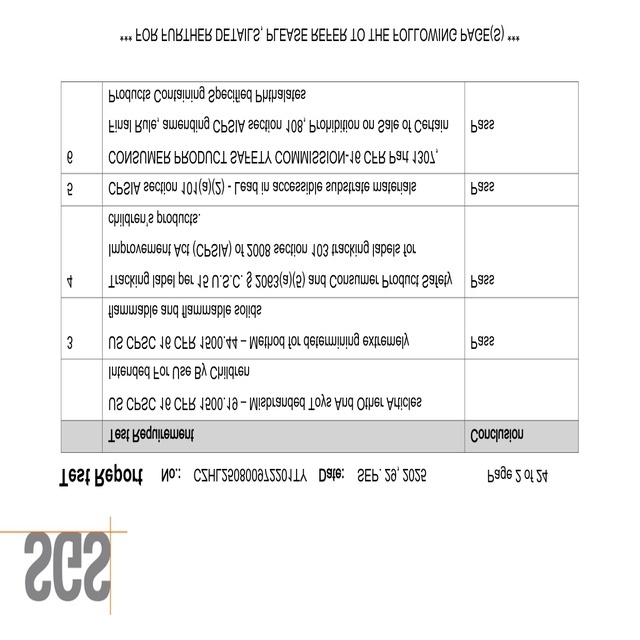sgs: (22, 531, 112, 602)
